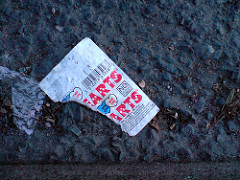wrapper: (37, 34, 166, 137)
